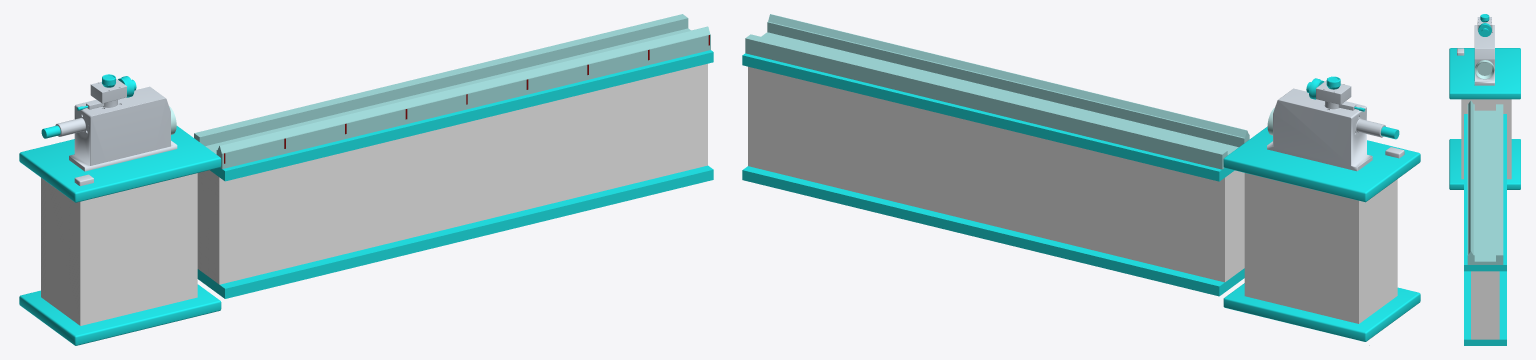
The picture shows the model from 3 angles, left to right: view 1: azimuth 30°, elevation 25°; view 2: azimuth 150°, elevation 25°; view 3: azimuth 270°, elevation 25°; orthographic projection. The views are drawn at different scales.
Parts seen in each view (by area): view 1: Box002, object 28, ChamferBox004, Box003, Box001, ChamferBox005, ChamferBox003, object 21, object 17, object 18; view 2: Box002, object 28, ChamferBox004, Box003, Box001, ChamferBox005, object 17, ChamferBox003, object 18; view 3: object 28, ChamferBox005, Box002, Box001, Box003, ChamferBox003, ChamferBox004, object 17, object 24, object 12.
Boxes of the visible parts, x1,y1,x2,y2 form: Box002: (197,63,707,284); object 28: (194,14,710,168); ChamferBox004: (41,173,197,325); Box003: (197,165,713,298); Box001: (210,50,713,181); ChamferBox005: (19,126,221,202); ChamferBox003: (19,284,221,345); object 21: (90,98,170,165); object 17: (69,76,177,171); object 18: (86,86,126,110); Box002: (748,66,1244,282); object 28: (745,14,1249,169); ChamferBox004: (1244,173,1397,323); Box003: (742,166,1244,296); Box001: (742,53,1234,181); ChamferBox005: (1223,126,1420,202); object 17: (1267,78,1372,171); ChamferBox003: (1223,283,1420,341); object 18: (1316,87,1356,111); object 28: (1467,100,1503,264); ChamferBox005: (1449,48,1520,99); Box002: (1471,271,1499,339); Box001: (1464,114,1506,271); Box003: (1464,271,1506,345); ChamferBox003: (1449,139,1520,189); ChamferBox004: (1461,99,1511,179); object 17: (1474,23,1494,85); object 24: (1475,60,1494,79); object 12: (1477,17,1491,25).
Size of the model in its own units: 1339 by 462 by 202.
